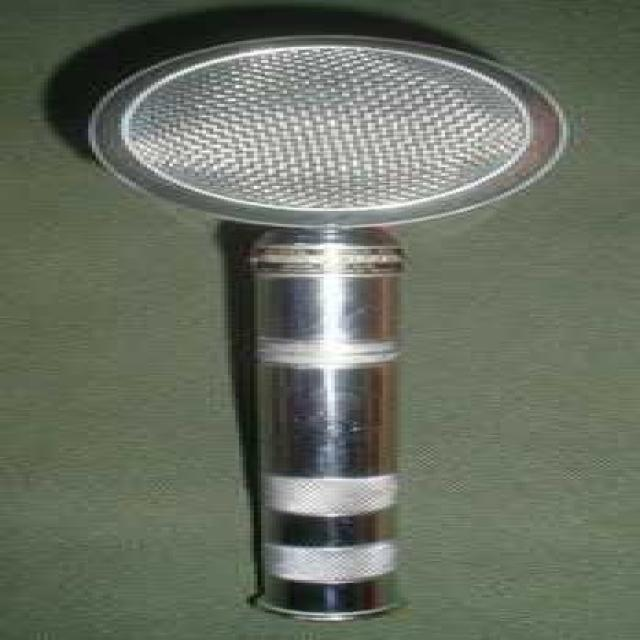microphone: (67, 34, 584, 615)
